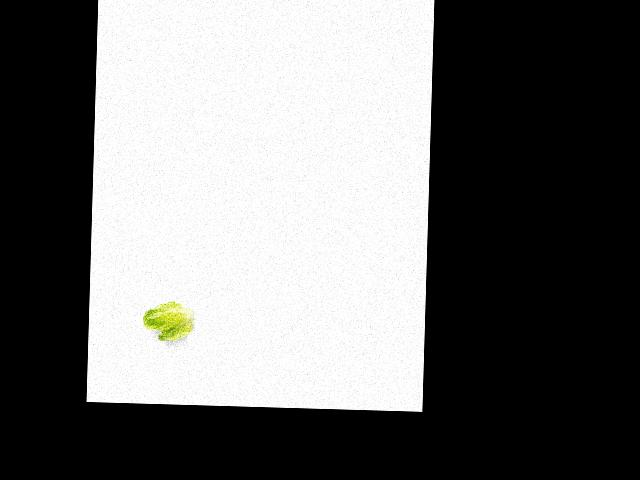lettuce: (139, 298, 201, 343)
